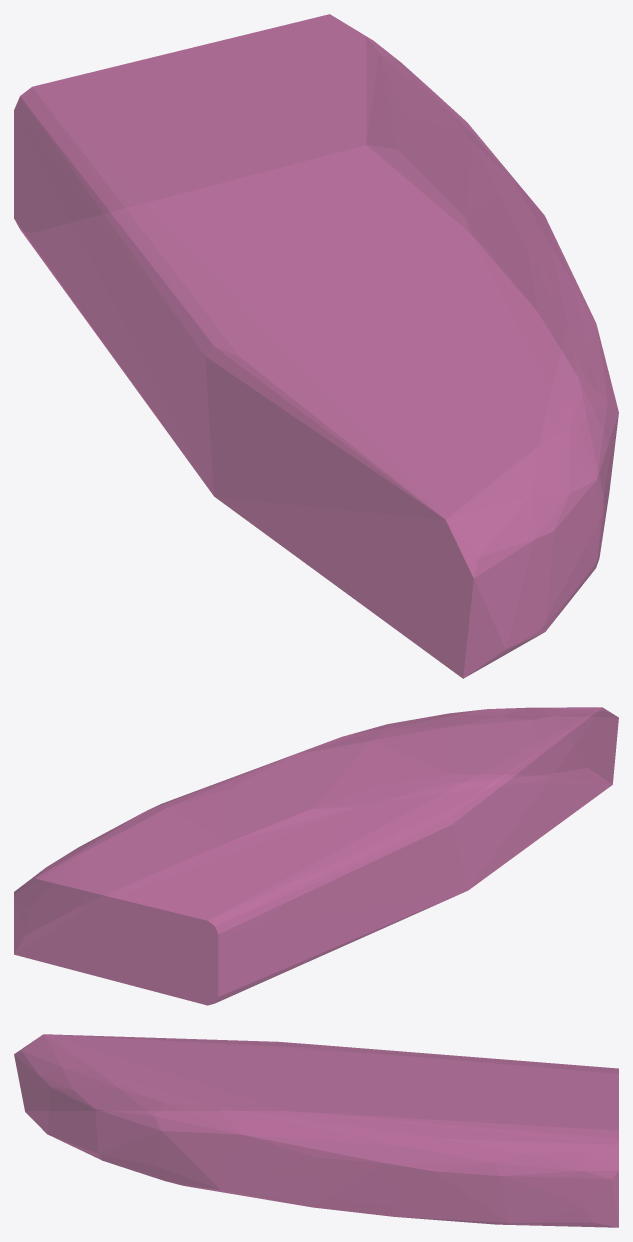
3 renders of one model, top to bottom at view 1: azimuth 30°, elevation 25°; view 2: azimuth 150°, elevation 25°; view 3: azimuth 270°, elevation 25°, orthographic. The views are drawn at different scales.
Visible parts, largest first — view 1: Shape_IndexedFaceSet.007_Shape_IndexedFaceSet.470; view 2: Shape_IndexedFaceSet.007_Shape_IndexedFaceSet.470; view 3: Shape_IndexedFaceSet.007_Shape_IndexedFaceSet.470.
Boxes of the visible parts, x1,y1,x2,y2 form: Shape_IndexedFaceSet.007_Shape_IndexedFaceSet.470: (14, 14, 618, 678); Shape_IndexedFaceSet.007_Shape_IndexedFaceSet.470: (14, 707, 618, 1005); Shape_IndexedFaceSet.007_Shape_IndexedFaceSet.470: (14, 1034, 618, 1227).
Bounding box in the file's own units: 0.2039 × 0.0601 × 0.4287.
